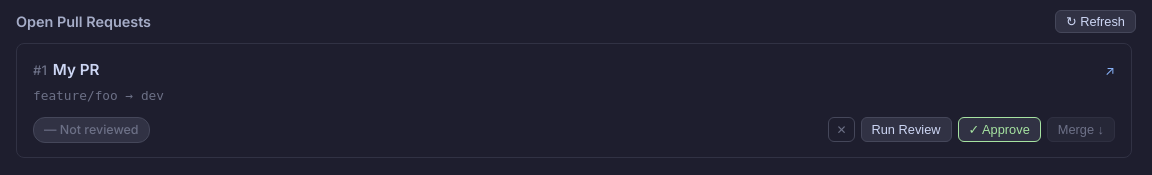
Test: PRPanel — inflight state cleared by WS events › clears removeInFlight when prClosedEvent arrives
Click the button "✕" at (842, 130), box top-left (828, 117), bottom-right (855, 142)
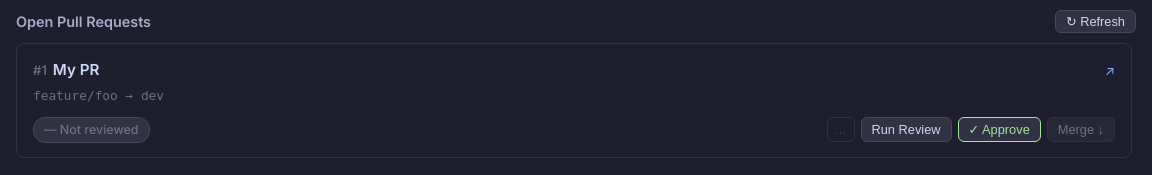
Now the button "…" is shown, box top-left (826, 117), bottom-right (854, 142)
